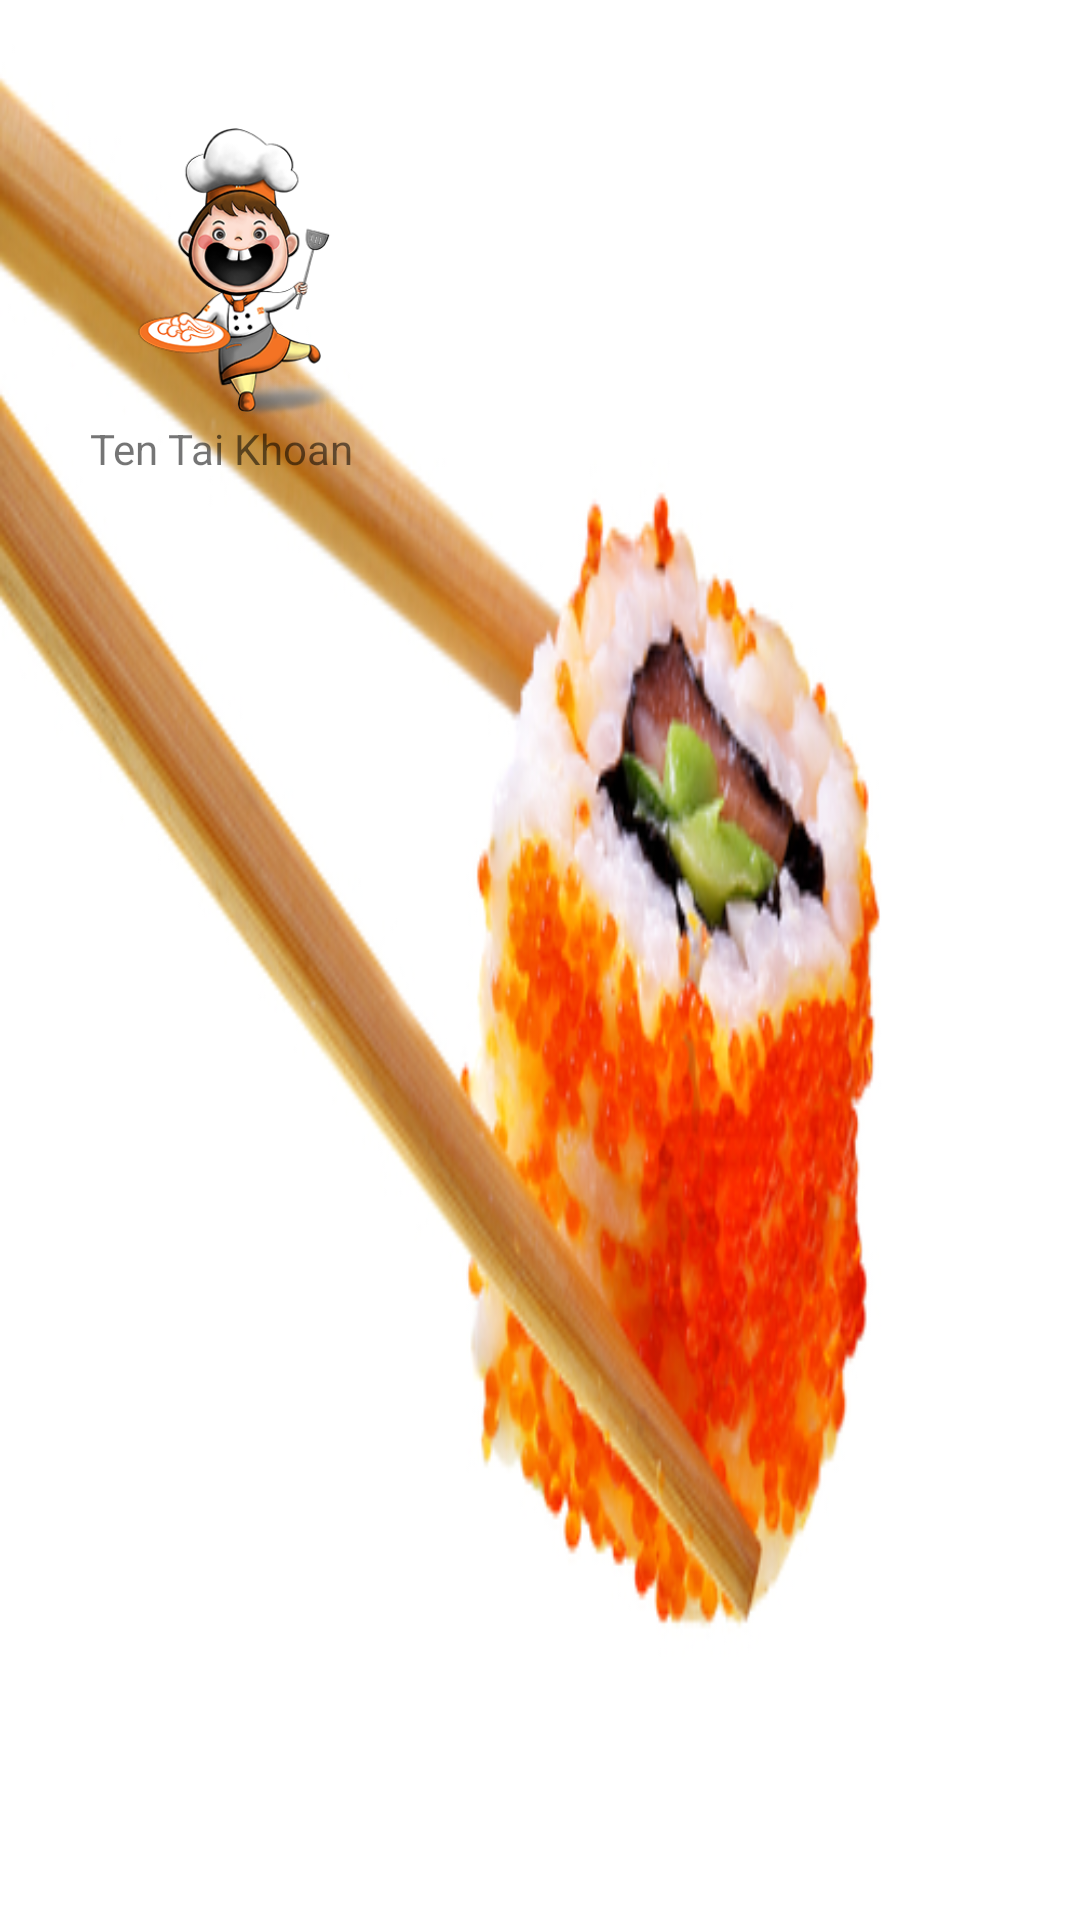

Icons on this 1080px x 1920px Android screen, each with its box as (x1, y1, x2, y2):
daubep: (90, 128, 360, 420)
